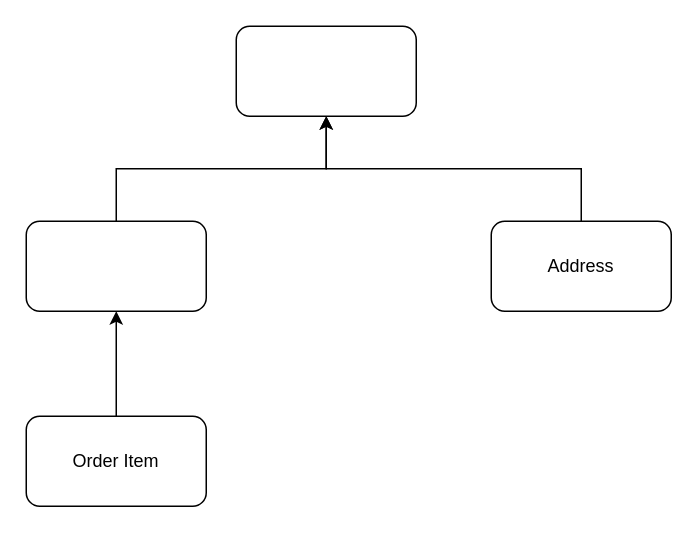
Image size: 698x533. Some labels were removed from this diagram. The shapes that lost their labels are listed below. From the top down, each one's centre as x and y in pixels, then its label:
the point at 325,70: Customer
the point at 115,265: Order
